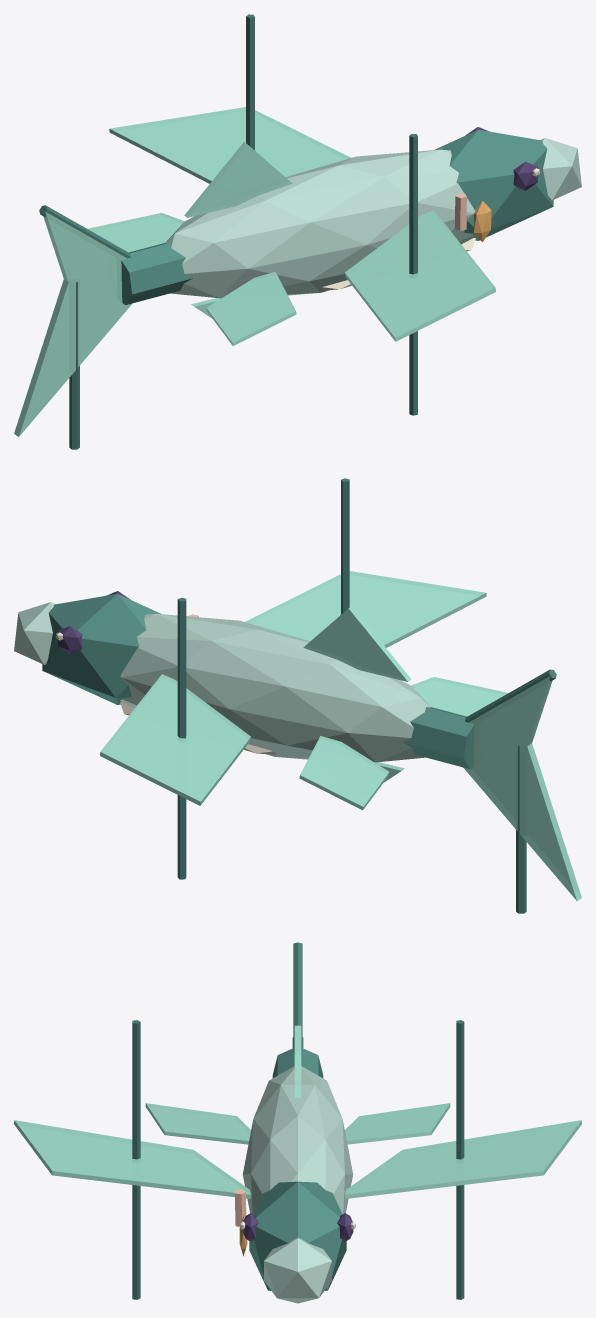
Rendered from flying_fish.glb.
The picture shows the model from 3 angles, top to bottom: view 1: azimuth 30°, elevation 25°; view 2: azimuth 150°, elevation 25°; view 3: azimuth 270°, elevation 25°; orthographic projection.
Parts seen in each view (by area): view 1: FlyingFish_Body, FlyingFish_Pectoral_R, FlyingFish_Tail, FlyingFish_Pectoral_L, FlyingFish_Head, FlyingFish_Pelvic_R, FlyingFish_Dorsal, FlyingFish_TailPeduncle, FlyingFish_Pelvic_L, FlyingFish_PectoralEdge_R, FlyingFish_Snout, FlyingFish_PectoralEdge_L (+3 smaller); view 2: FlyingFish_Body, FlyingFish_Pectoral_L, FlyingFish_Tail, FlyingFish_Pectoral_R, FlyingFish_Head, FlyingFish_Pelvic_L, FlyingFish_Dorsal, FlyingFish_TailPeduncle, FlyingFish_PectoralEdge_L, FlyingFish_Pelvic_R, FlyingFish_Snout, FlyingFish_PectoralEdge_R (+2 smaller); view 3: FlyingFish_Body, FlyingFish_Pectoral_L, FlyingFish_Pectoral_R, FlyingFish_Head, FlyingFish_Snout, FlyingFish_Pelvic_L, FlyingFish_Pelvic_R, FlyingFish_PectoralEdge_R, FlyingFish_PectoralEdge_L, FlyingFish_TailLeadingUpper, FlyingFish_TailPeduncle, FlyingFish_Dorsal.
Part boxes in pixels (x1,y1,x2,y2): FlyingFish_Body: [165, 149, 475, 298]; FlyingFish_Pectoral_R: [345, 210, 495, 341]; FlyingFish_Tail: [14, 212, 132, 436]; FlyingFish_Pectoral_L: [109, 107, 350, 183]; FlyingFish_Head: [434, 129, 553, 240]; FlyingFish_Pelvic_R: [206, 271, 296, 345]; FlyingFish_Dorsal: [184, 142, 292, 217]; FlyingFish_TailPeduncle: [121, 243, 192, 305]; FlyingFish_Pelvic_L: [87, 213, 184, 252]; FlyingFish_PectoralEdge_R: [409, 134, 417, 415]; FlyingFish_Snout: [540, 138, 581, 200]; FlyingFish_PectoralEdge_L: [246, 14, 254, 150]; FlyingFish_Body: [120, 613, 430, 762]; FlyingFish_Pectoral_L: [100, 674, 250, 805]; FlyingFish_Tail: [463, 676, 581, 901]; FlyingFish_Pectoral_R: [245, 571, 486, 647]; FlyingFish_Head: [42, 594, 161, 704]; FlyingFish_Pelvic_L: [299, 736, 389, 810]; FlyingFish_Dorsal: [303, 606, 411, 681]; FlyingFish_TailPeduncle: [403, 707, 474, 769]; FlyingFish_PectoralEdge_L: [177, 597, 186, 879]; FlyingFish_Pelvic_R: [411, 677, 508, 716]; FlyingFish_Snout: [14, 602, 55, 664]; FlyingFish_PectoralEdge_R: [341, 478, 349, 614]; FlyingFish_Body: [242, 1066, 353, 1214]; FlyingFish_Pectoral_L: [345, 1120, 581, 1198]; FlyingFish_Pectoral_R: [14, 1120, 250, 1198]; FlyingFish_Head: [249, 1181, 346, 1290]; FlyingFish_Snout: [264, 1238, 331, 1303]; FlyingFish_Pelvic_L: [345, 1103, 450, 1144]; FlyingFish_Pelvic_R: [145, 1103, 250, 1144]; FlyingFish_PectoralEdge_R: [132, 1020, 140, 1299]; FlyingFish_PectoralEdge_L: [456, 1020, 464, 1299]; FlyingFish_TailLeadingUpper: [293, 942, 302, 1052]; FlyingFish_TailPeduncle: [272, 1048, 323, 1077]; FlyingFish_Dorsal: [294, 1025, 301, 1097].
Size of the model in its own units: 1.69 by 0.888 by 1.49.
